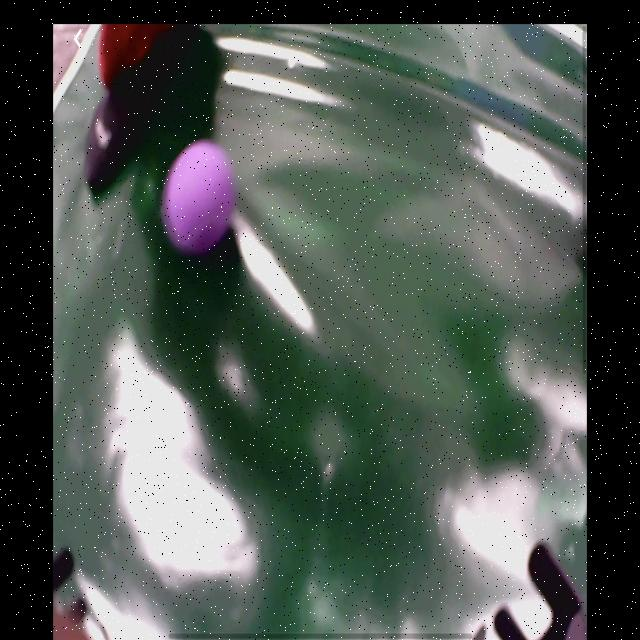ball: (164, 146, 239, 254)
